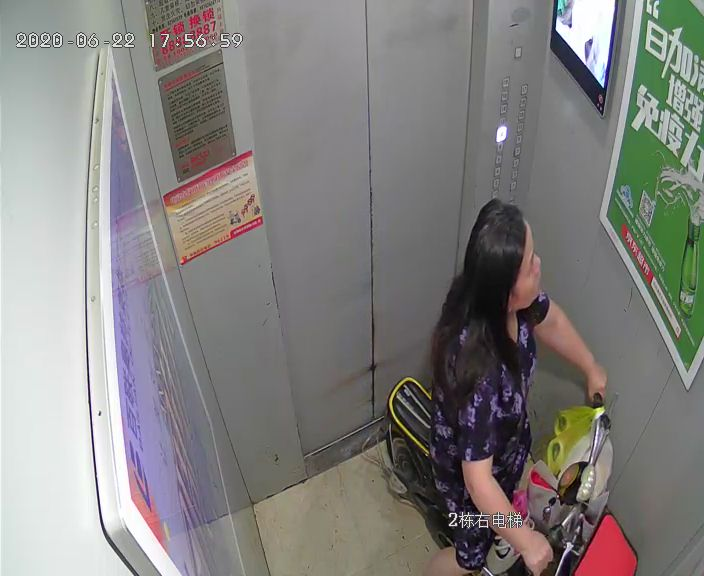Electric-bicycle: (360, 376, 638, 575)
